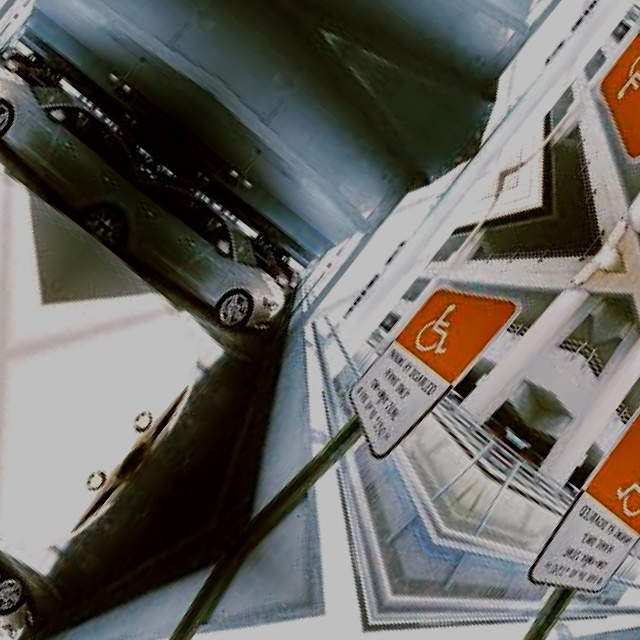ISA: (408, 296, 472, 365), (607, 455, 640, 523), (609, 44, 640, 112)
